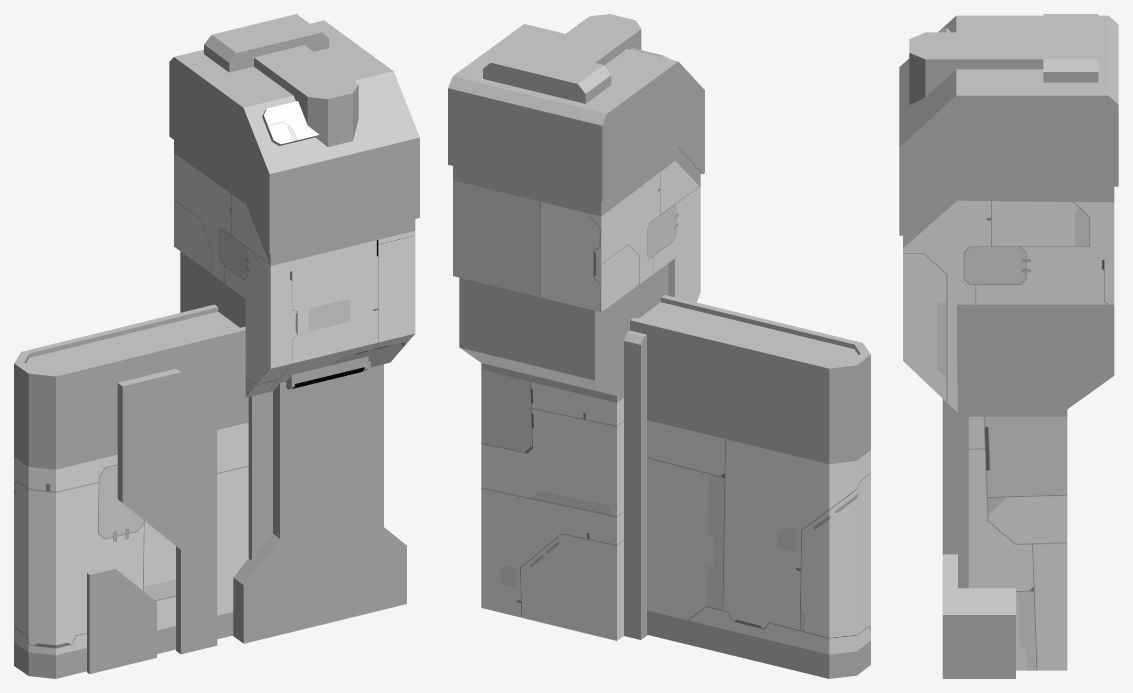
Rendered from SM_BuildingExtra_Tower_1.fbx.
The picture shows the model from 3 angles, left to right: view 1: azimuth 30°, elevation 25°; view 2: azimuth 150°, elevation 25°; view 3: azimuth 270°, elevation 25°; orthographic projection. The views are drawn at different scales.
Parts seen in each view (by area): view 1: SM_BuildingExtra_Tower_1; view 2: SM_BuildingExtra_Tower_1; view 3: SM_BuildingExtra_Tower_1.
Boxes of the visible parts, <box> form: SM_BuildingExtra_Tower_1: <box>14,14,419,678</box>; SM_BuildingExtra_Tower_1: <box>448,14,870,678</box>; SM_BuildingExtra_Tower_1: <box>899,14,1118,678</box>.
Size of the model in its own units: 413 by 602 by 200.
